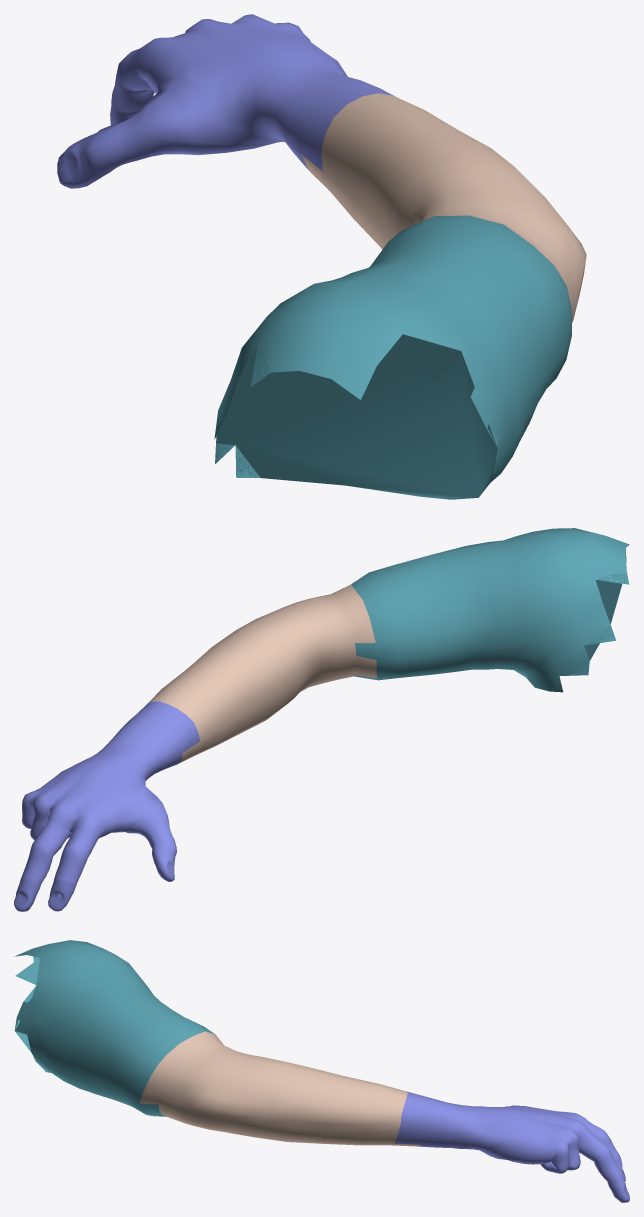
File: main_pouls.glb
3 views of the same model, one above another, from view 1: azimuth 30°, elevation 25°; view 2: azimuth 150°, elevation 25°; view 3: azimuth 270°, elevation 25° (orthographic). The views are drawn at different scales.
Parts seen in each view (by area): view 1: main_pouls; view 2: main_pouls; view 3: main_pouls.
Boxes of the visible parts, x1,y1,x2,y2 form: main_pouls: (57,14,586,499); main_pouls: (14,528,629,911); main_pouls: (14,940,629,1202).
Bounding box in the file's own units: 0.3325 × 0.1883 × 0.6436.
